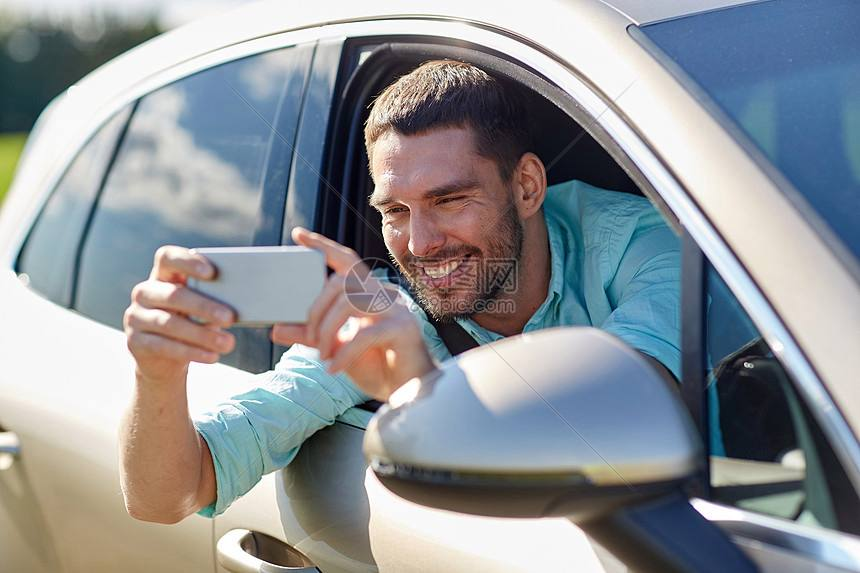taking photos: (118, 223, 432, 402)
